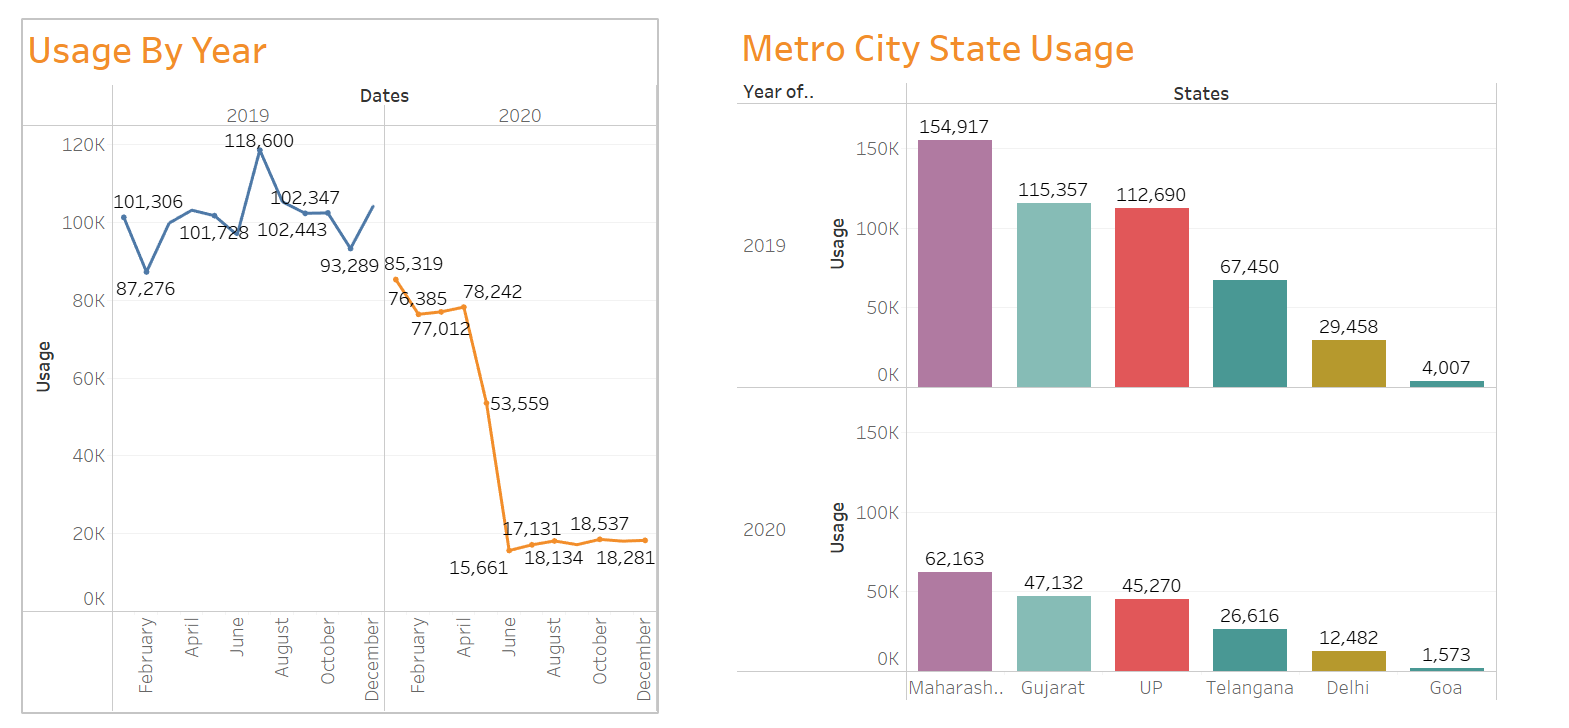

The page's visual inventory and layout, read from the dashboard file:
{"tool":"tableau","page":{"name":"Dashboard 5","canvas":[1000,1000],"units":"permille","ordinal":4},"visuals":[{"type":"worksheet","title":" Metro City State Usage","mark":"Automatic","rows":["Dates","Usage"],"cols":["States"],"box":[463.9,33.5,473.6,915.6]},{"type":"worksheet","title":" Usage By Year","mark":"Automatic","rows":["Usage"],"cols":["Dates","Dates"],"box":[18.6,36.2,395.4,927.6]}]}

Visuals, with their boxes on the dashboard's canvas, which has no fixed pixel size, in thousandths of its width and height (x1, y1, x2, y2). These are canvas units, not pixel positions in the 1569x728 screenshot, which may show the page scaled, cropped or inside an application window:
" Metro City State Usage" worksheet: 464,34,938,949
" Usage By Year" worksheet: 19,36,414,964
